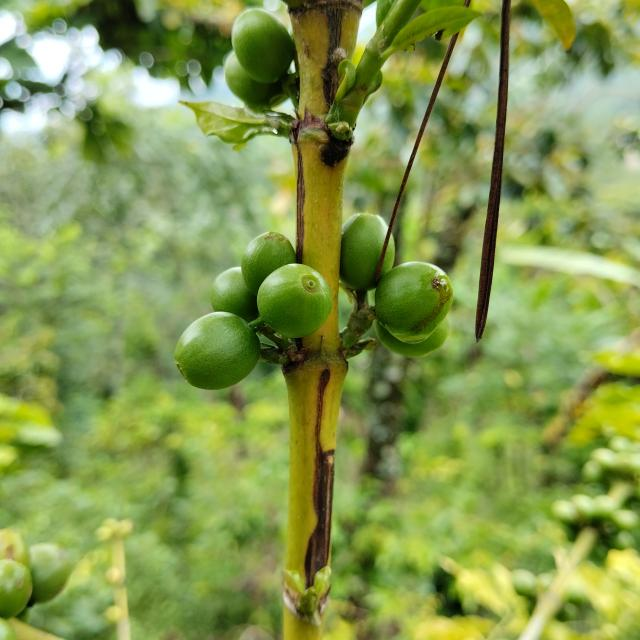green: (174, 312, 260, 390), (375, 261, 453, 344), (257, 264, 332, 338), (231, 7, 295, 83), (340, 213, 388, 291), (241, 231, 296, 296), (224, 50, 282, 107), (375, 319, 450, 358), (210, 266, 259, 322), (382, 235, 395, 277)
